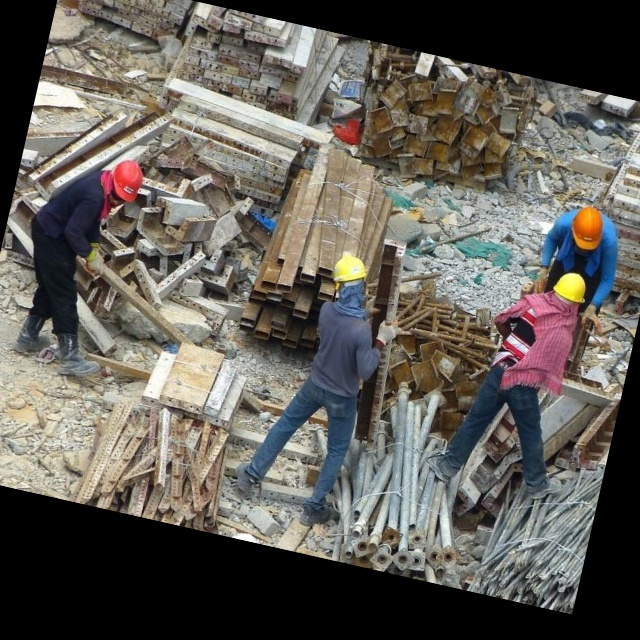Con_Casco: (326, 246, 377, 311), (103, 158, 146, 215), (566, 202, 611, 256)
